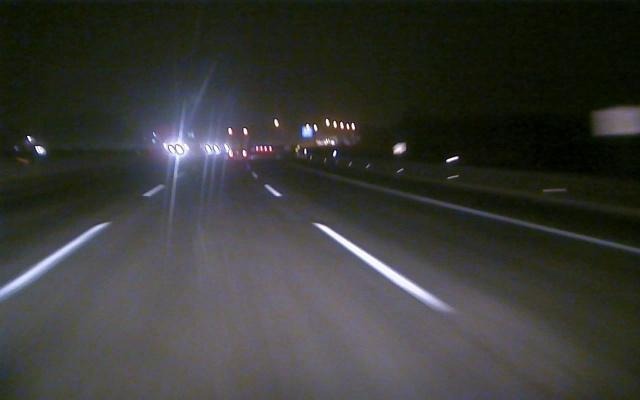lane: (263, 184, 459, 317), (1, 188, 159, 300), (399, 193, 637, 255)
